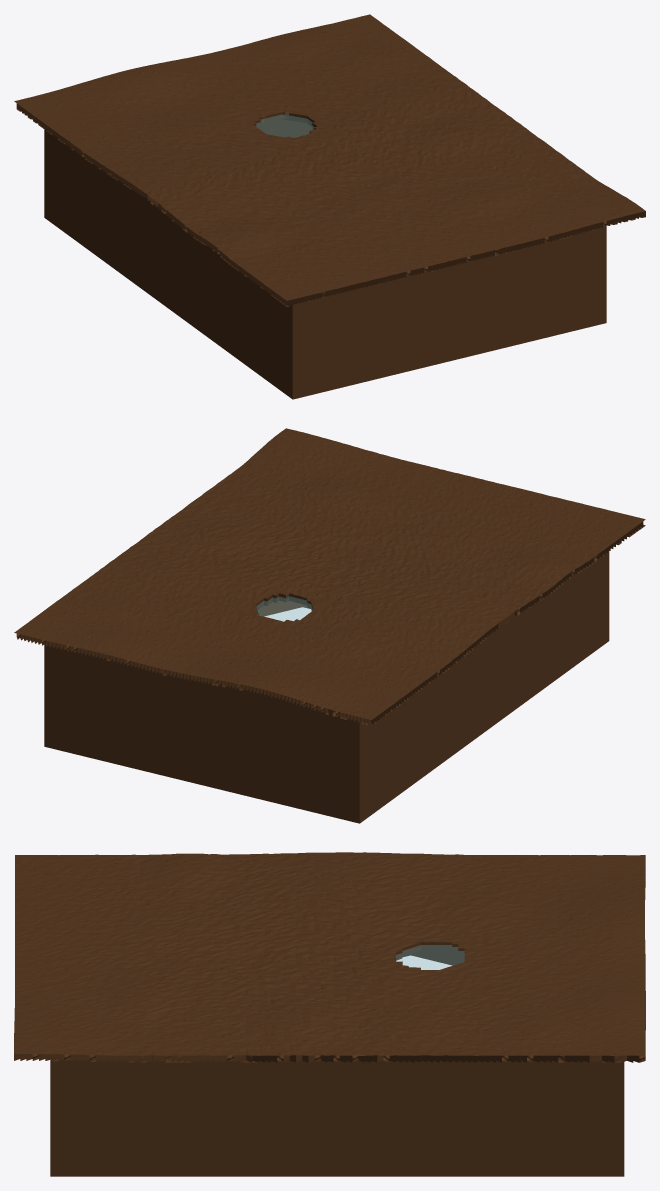
Rendered from underwater.glb.
3 renders of one model, top to bottom at view 1: azimuth 30°, elevation 25°; view 2: azimuth 150°, elevation 25°; view 3: azimuth 270°, elevation 25°, orthographic. The views are drawn at different scales.
Visible parts, largest first — view 1: Plane, defaultMaterial.007; view 2: Plane, defaultMaterial.007; view 3: Plane, defaultMaterial.007, Sand_Sand_0.
Part boxes in pixels (x1=…): Plane: x1=14, y1=14, x2=645, y2=399; defaultMaterial.007: x1=256, y1=114, x2=313, y2=137; Plane: x1=14, y1=428, x2=645, y2=823; defaultMaterial.007: x1=257, y1=596, x2=312, y2=621; Plane: x1=14, y1=852, x2=645, y2=1176; defaultMaterial.007: x1=396, y1=945, x2=464, y2=969; Sand_Sand_0: x1=396, y1=955, x2=452, y2=969.
Size of the model in its own units: 93.77 by 29.79 by 124.
Materials: 13 (13 with a texture image).
